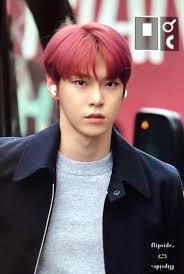earphone: (47, 82, 60, 99), (120, 88, 129, 100)
